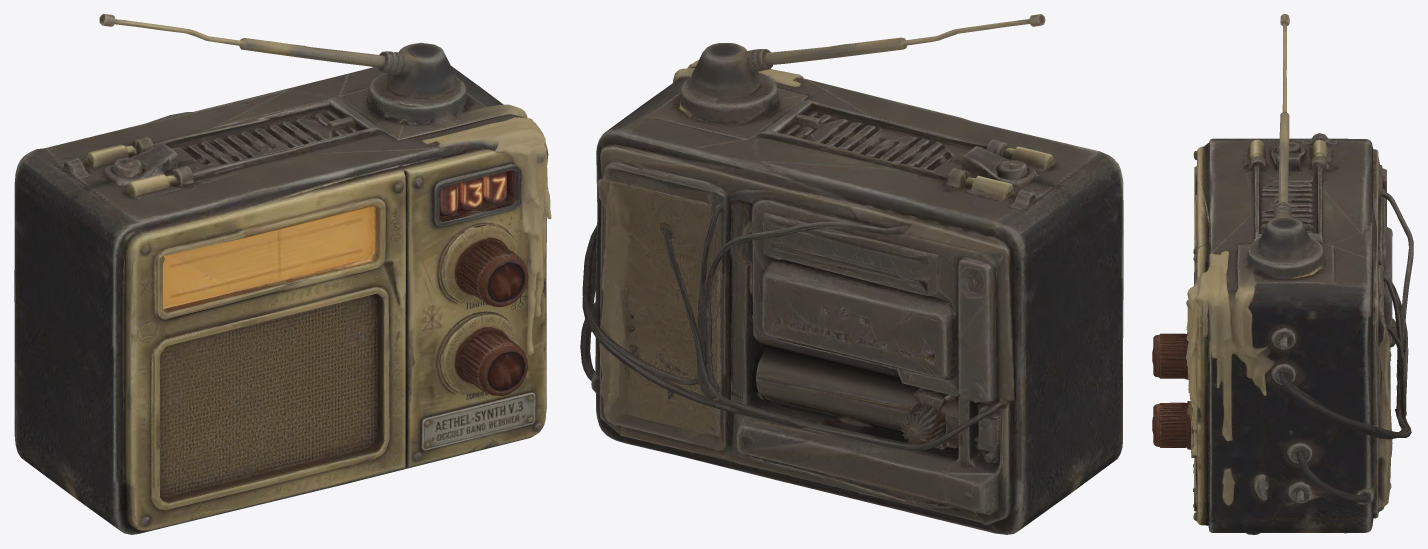
File: radio.glb
The picture shows the model from 3 angles, left to right: view 1: azimuth 30°, elevation 25°; view 2: azimuth 150°, elevation 25°; view 3: azimuth 270°, elevation 25°; orthographic projection. The views are drawn at different scales.
Visible parts, largest first — view 1: Mesh_0; view 2: Mesh_0; view 3: Mesh_0.
Boxes of the visible parts, x1=… form: Mesh_0: x1=14, y1=14, x2=551, y2=534; Mesh_0: x1=580, y1=14, x2=1123, y2=534; Mesh_0: x1=1152, y1=14, x2=1413, y2=534.
Size of the model in its own units: 1.9 by 1.9 by 1.17.
Materials: 1 (1 with a texture image).
